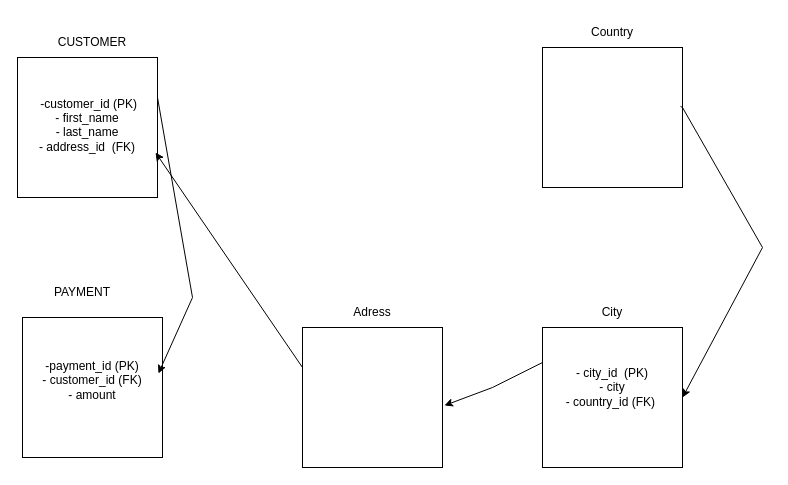
The diagram is 788 pixels wide and 485 high, and some of its shapes have lost their labels. Here are the shapes that lost their labels. From the top down, the centre of each, then its label:
the point at 612,117: -country_id (PK) -country
the point at 372,397: - address_id (PK) - city_id (FK)
